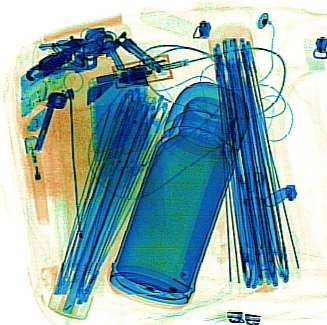lighter: (20, 133, 47, 221)
